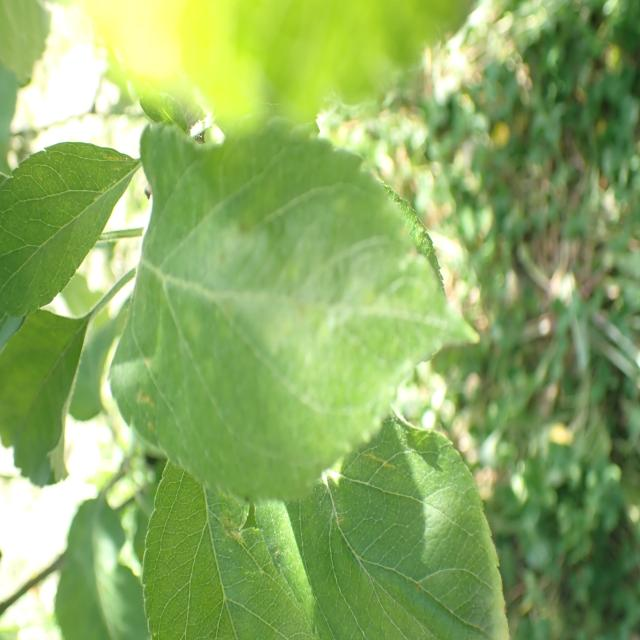scab: (114, 181, 400, 448)
